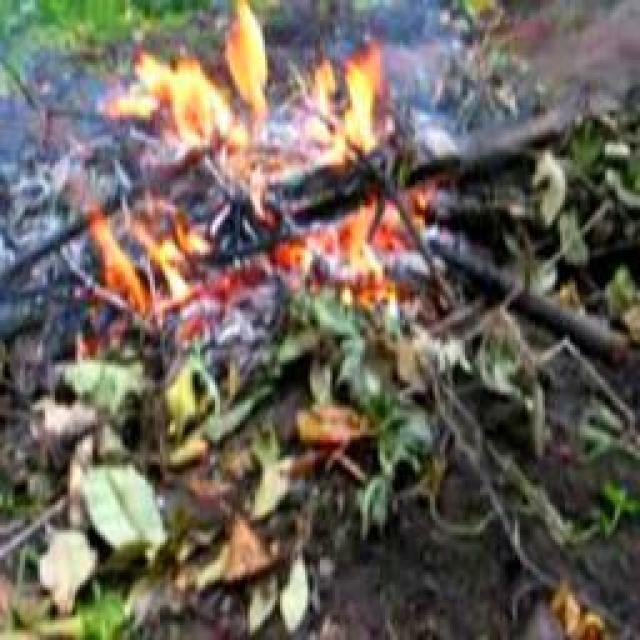Fire: (66, 14, 431, 316)
